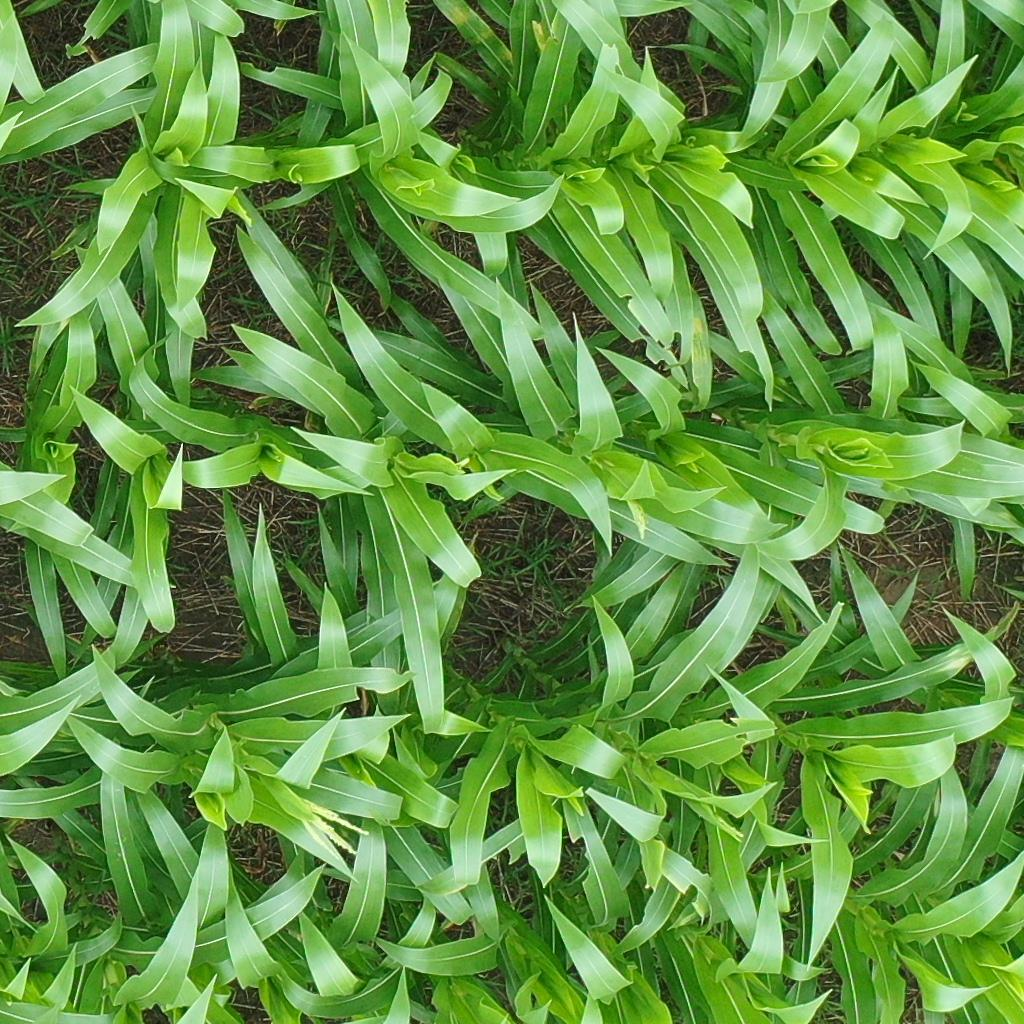Tassel: (292, 790, 371, 861)
